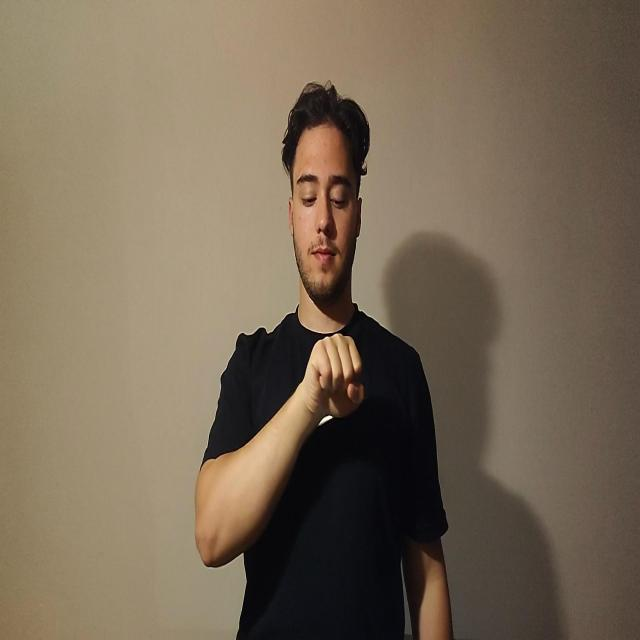yes: (303, 331, 364, 420)
